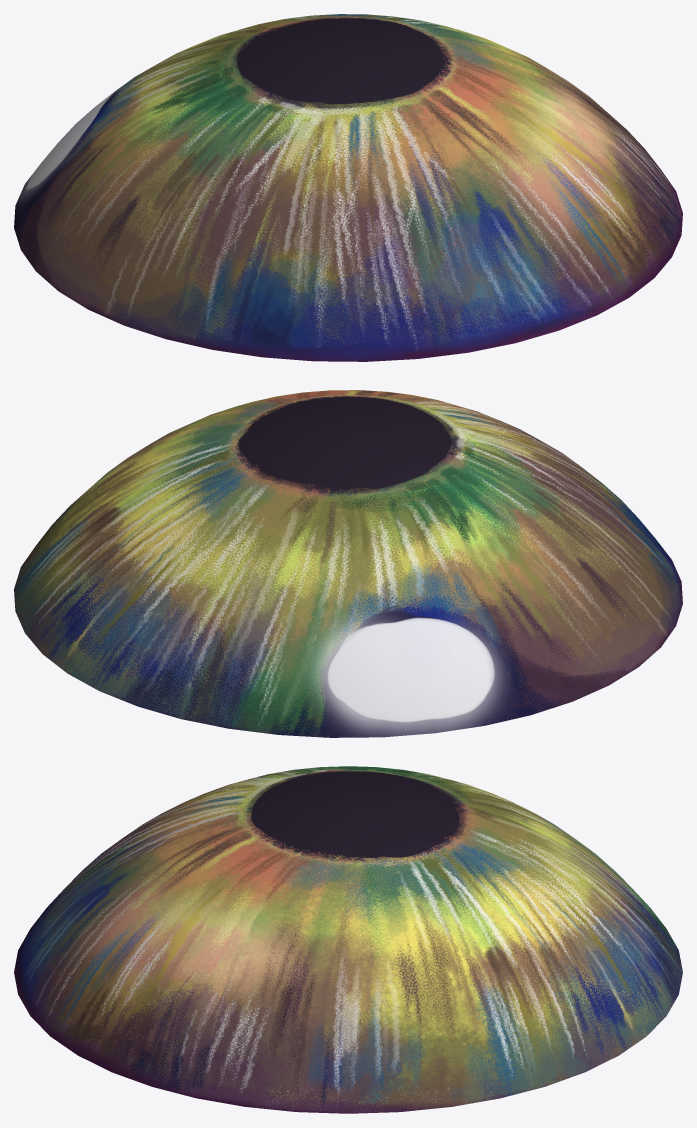
The model's file is EyeRe.fbx.
The picture shows the model from 3 angles, top to bottom: view 1: azimuth 30°, elevation 25°; view 2: azimuth 150°, elevation 25°; view 3: azimuth 270°, elevation 25°; orthographic projection.
Visible parts, largest first — view 1: pSphere1; view 2: pSphere1; view 3: pSphere1.
Boxes of the visible parts, left/top/right/bottom form: pSphere1: left=14, top=14, right=682, bottom=361; pSphere1: left=14, top=390, right=682, bottom=737; pSphere1: left=14, top=766, right=682, bottom=1113.
Bounding box in the file's own units: 1.71 × 0.4775 × 1.71.
